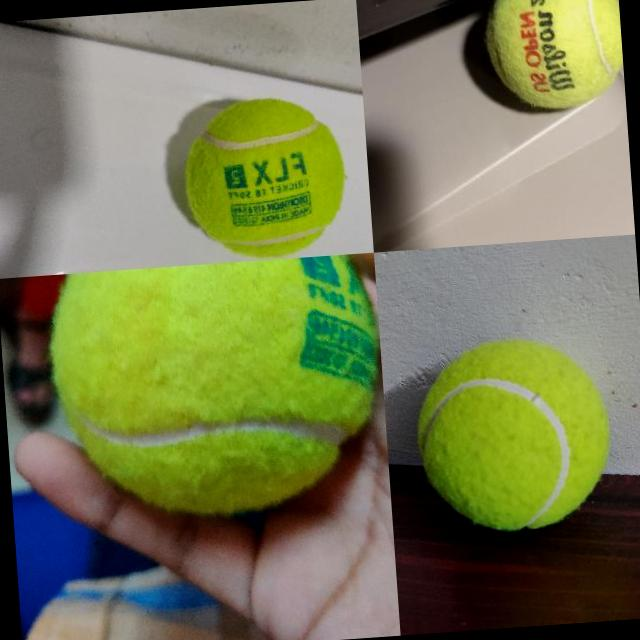Tennis Ball: (46, 252, 388, 520), (412, 331, 617, 537), (178, 93, 352, 264), (480, 0, 626, 117)
